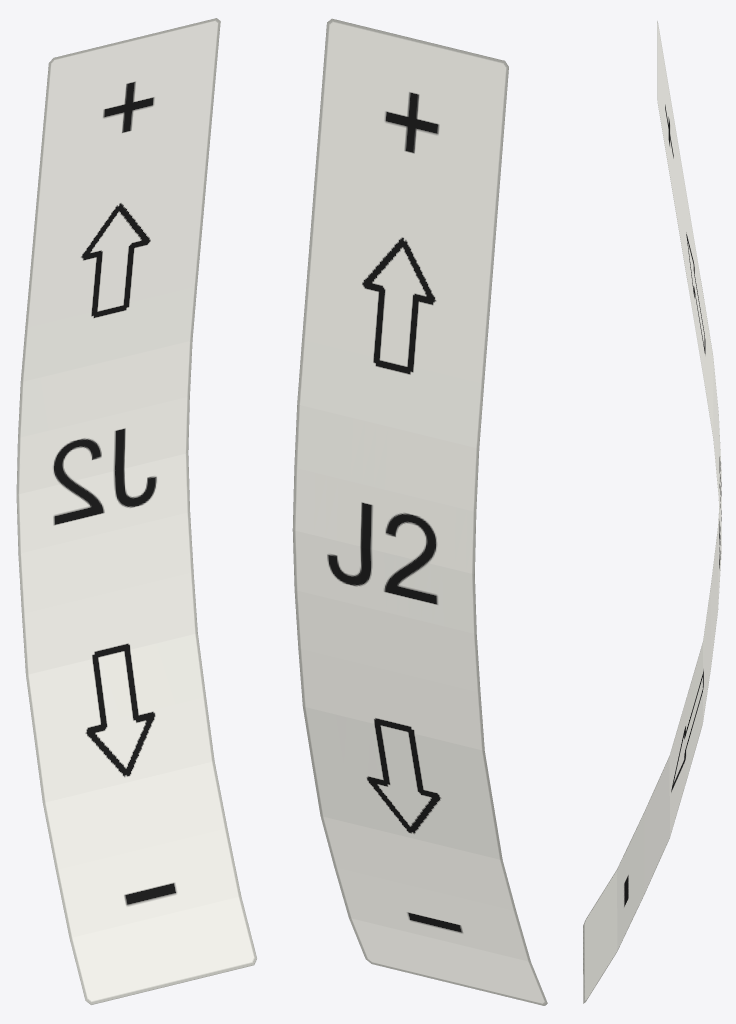
File: J2_sticker_other.glb
The picture shows the model from 3 angles, left to right: view 1: azimuth 30°, elevation 25°; view 2: azimuth 150°, elevation 25°; view 3: azimuth 270°, elevation 25°; orthographic projection. The views are drawn at different scales.
Size of the model in its own units: 0.012 by 0.06 by 0.00836.
Materials: 1 (1 with a texture image).
